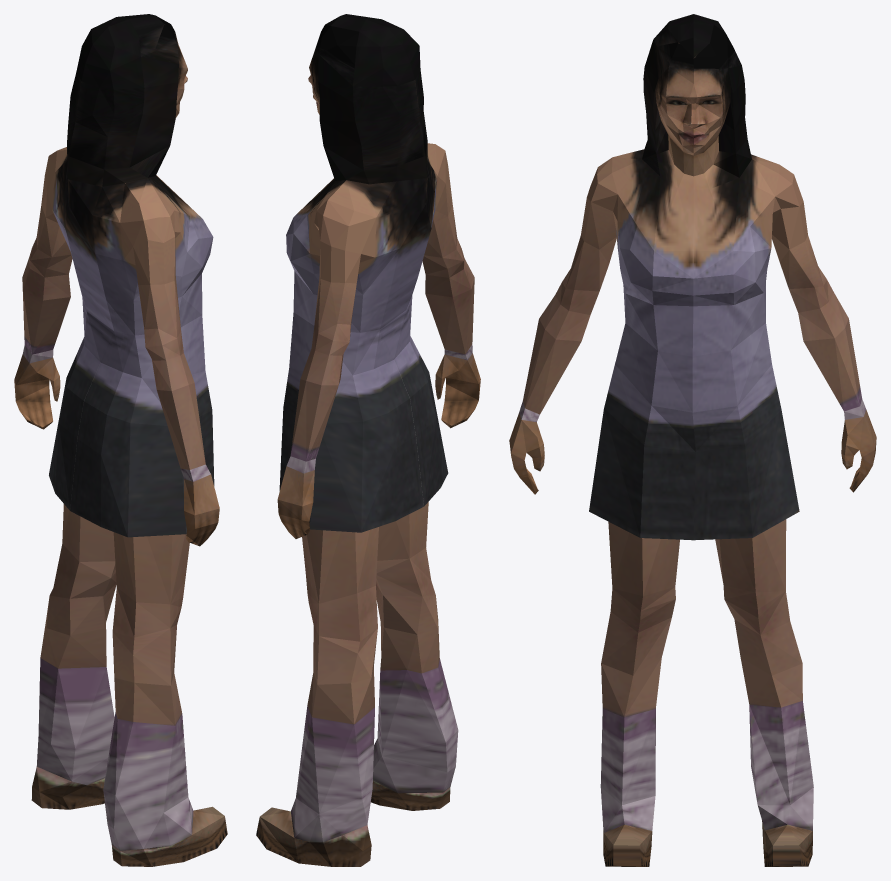
Rendered from sofyst.obj.
3 views of the same model, side by side, from view 1: azimuth 30°, elevation 25°; view 2: azimuth 150°, elevation 25°; view 3: azimuth 270°, elevation 25° (orthographic). The views are drawn at different scales.
Visible parts, largest first — view 1: _Pelvis; view 2: _Pelvis; view 3: _Pelvis.
Boxes of the visible parts, <box> form: _Pelvis: <box>14,14,227,866</box>; _Pelvis: <box>256,14,480,866</box>; _Pelvis: <box>509,14,876,866</box>.
Bounding box in the file's own units: 0.2838 × 1.7 × 0.6856.
1 material, 1 textured.
